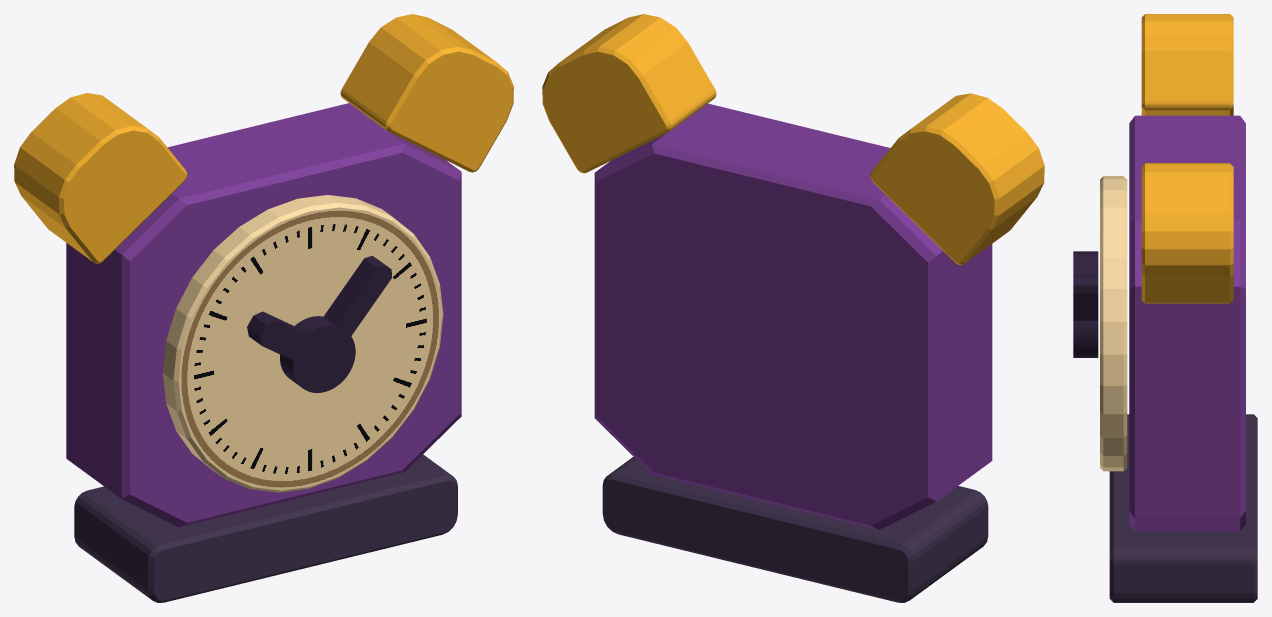
Rendered from AlarmClockC.glb.
3 renders of one model, left to right at view 1: azimuth 30°, elevation 25°; view 2: azimuth 150°, elevation 25°; view 3: azimuth 270°, elevation 25°, orthographic. The views are drawn at different scales.
Visible parts, largest first — view 1: Part_001_OctagonCase, Part_002_Dial.001, Part_000_Base.001, Part_003_LeftBell.001, Part_004_RightBell.001, Part_005_JoinedHands; view 2: Part_001_OctagonCase, Part_000_Base.001, Part_003_LeftBell.001, Part_004_RightBell.001; view 3: Part_001_OctagonCase, Part_000_Base.001, Part_004_RightBell.001, Part_003_LeftBell.001, Part_002_Dial.001, Part_005_JoinedHands.
Part boxes in pixels (x1,y1,x2,y2): Part_001_OctagonCase: [66, 103, 461, 527]; Part_002_Dial.001: [162, 195, 443, 492]; Part_000_Base.001: [74, 454, 457, 602]; Part_003_LeftBell.001: [14, 93, 187, 263]; Part_004_RightBell.001: [340, 14, 513, 172]; Part_005_JoinedHands: [247, 255, 391, 392]; Part_001_OctagonCase: [594, 103, 992, 529]; Part_000_Base.001: [602, 456, 988, 602]; Part_003_LeftBell.001: [870, 93, 1044, 265]; Part_004_RightBell.001: [542, 14, 716, 173]; Part_001_OctagonCase: [1129, 115, 1245, 531]; Part_000_Base.001: [1109, 414, 1257, 602]; Part_004_RightBell.001: [1141, 163, 1233, 303]; Part_003_LeftBell.001: [1141, 14, 1233, 115]; Part_002_Dial.001: [1100, 176, 1127, 471]; Part_005_JoinedHands: [1073, 251, 1098, 357].
Bounding box in the file's own units: 12.78 × 12.58 × 4.74.
6 materials, 1 textured.
